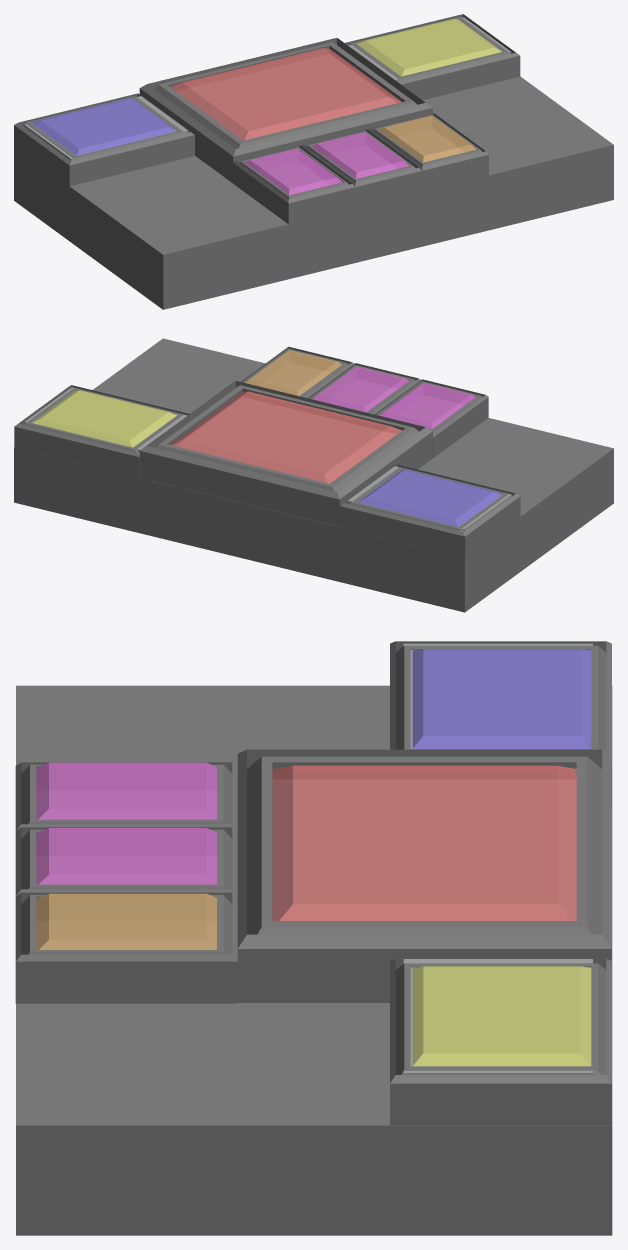
The model's file is UIblockQuickTexture.fbx.
The picture shows the model from 3 angles, top to bottom: view 1: azimuth 30°, elevation 25°; view 2: azimuth 150°, elevation 25°; view 3: azimuth 270°, elevation 25°; orthographic projection. The views are drawn at different scales.
Visible parts, largest first — view 1: Base, ActivecolorbarIn, ActiveColorbar, CanterInsidebar, leftcolorbar, Secondary_left, secondaryright, Secondarycenter, LeftInsideBar, RightInsideBar, leftcolorbarin, Rightcolorbarin (+4 smaller); view 2: Base, ActiveColorbar, ActivecolorbarIn, CanterInsidebar, leftcolorbar, LeftInsideBar, RightInsideBar, Rightcolorbar, leftcolorbarin, Rightcolorbarin, Secondary_left, secondaryright (+4 smaller); view 3: Base, ActivecolorbarIn, CanterInsidebar, ActiveColorbar, secondaryright, RightInsideBar, LeftInsideBar, Rightcolorbarin, leftcolorbarin, Rightcolorbar, Secondary_left, Secondarycenter (+4 smaller).
Boxes of the visible parts, x1,y1,x2,y2 form: Base: (14, 76, 613, 309); ActivecolorbarIn: (170, 48, 401, 140); ActiveColorbar: (139, 38, 432, 182); CanterInsidebar: (178, 54, 394, 139); leftcolorbar: (14, 93, 194, 186); Secondary_left: (233, 145, 355, 224); secondaryright: (367, 112, 488, 191); Secondarycenter: (301, 129, 421, 207); LeftInsideBar: (24, 96, 188, 160); RightInsideBar: (348, 17, 511, 81); leftcolorbarin: (31, 98, 176, 155); Rightcolorbarin: (357, 19, 501, 76); Base: (14, 338, 613, 612); ActiveColorbar: (139, 381, 432, 526); ActivecolorbarIn: (171, 391, 401, 483); CanterInsidebar: (178, 398, 394, 482); leftcolorbar: (339, 464, 520, 557); LeftInsideBar: (347, 466, 511, 531); RightInsideBar: (24, 387, 187, 451); Rightcolorbar: (14, 385, 189, 477); leftcolorbarin: (357, 469, 502, 526); Rightcolorbarin: (32, 390, 176, 447); Secondary_left: (374, 379, 488, 458); secondaryright: (240, 346, 353, 397); Base: (16, 685, 612, 1235); ActivecolorbarIn: (272, 765, 576, 920); CanterInsidebar: (273, 780, 575, 920); ActiveColorbar: (237, 749, 611, 1002); secondaryright: (15, 892, 237, 1003); RightInsideBar: (403, 959, 592, 1074); LeftInsideBar: (403, 643, 592, 748); Rightcolorbarin: (412, 966, 591, 1066); leftcolorbarin: (412, 649, 591, 748); Rightcolorbar: (390, 958, 611, 1125); Secondary_left: (15, 762, 237, 830); Secondarycenter: (15, 827, 237, 895).
Bounding box in the file's own units: 13.87 × 2.65 × 7.94.
